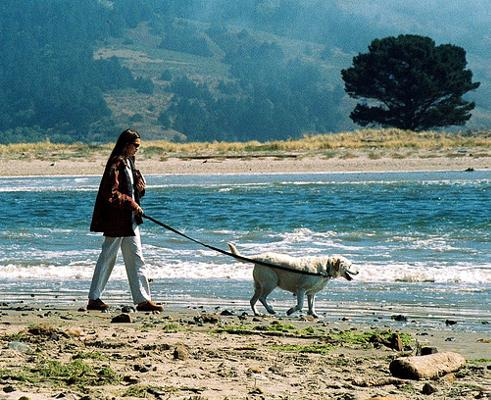person: (88, 129, 163, 314)
